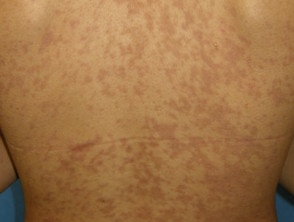SJS-TEN: (1, 0, 293, 221)
